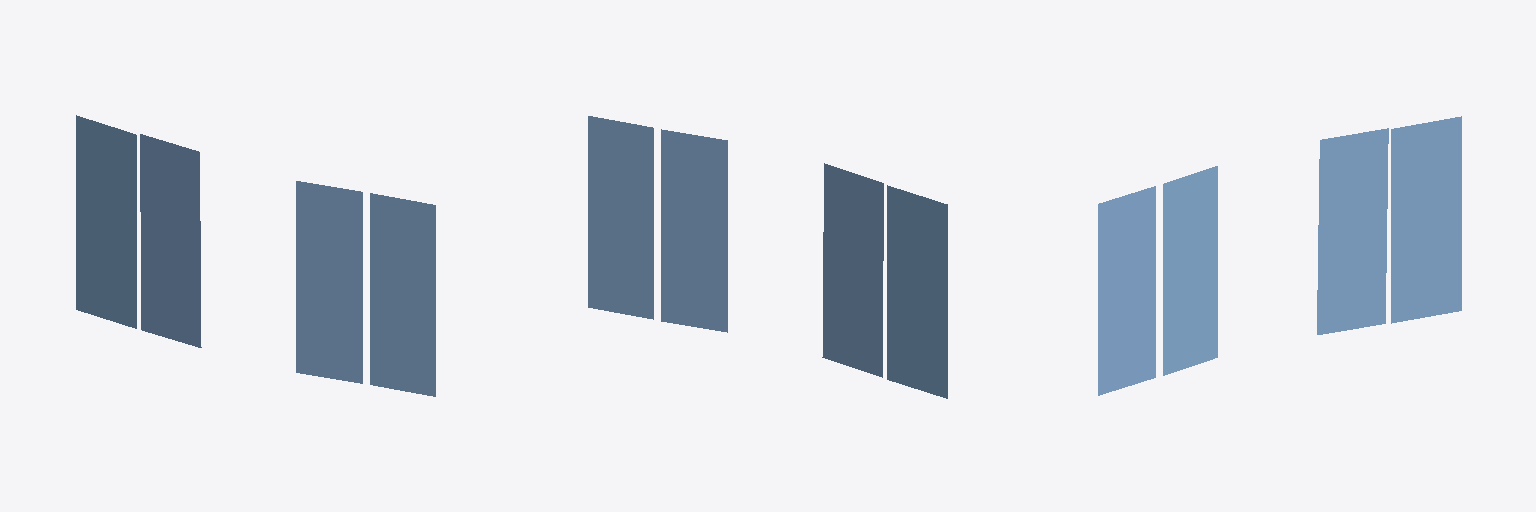
The picture shows the model from 3 angles: view 1: azimuth 30°, elevation 25°; view 2: azimuth 210°, elevation 25°; view 3: azimuth 270°, elevation 25°; orthographic projection.
Size of the model in its own units: 2.82 by 2.97 by 4.97.
1 materials, 1 textured.